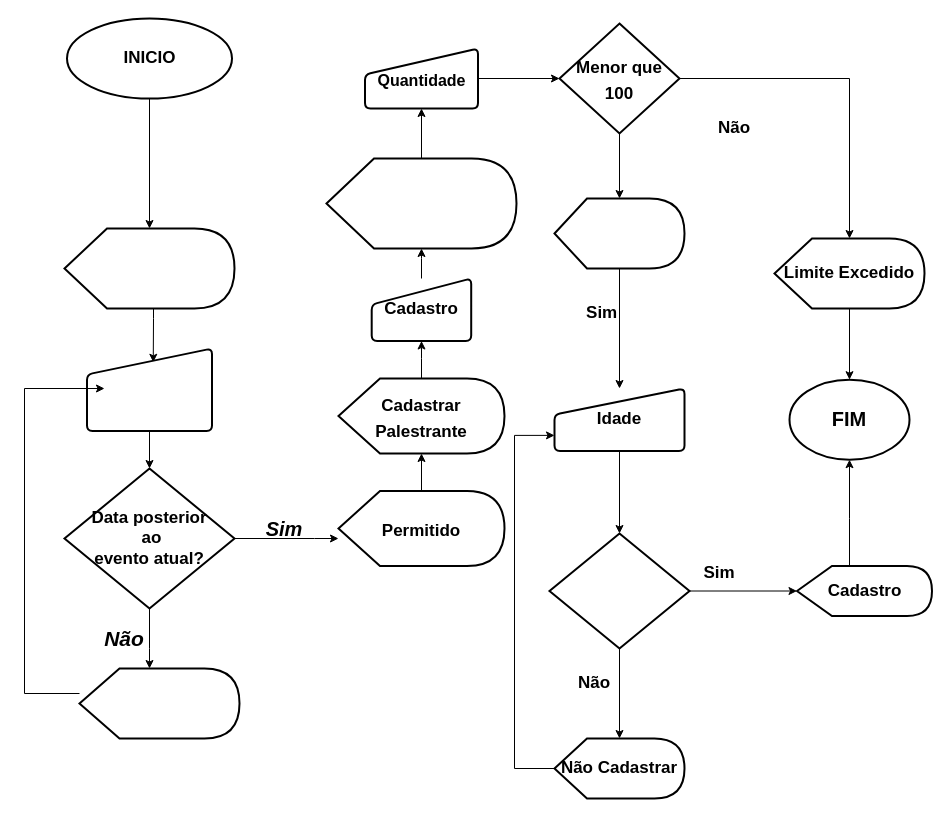
The diagram is 950 pixels wide and 816 high, and some of its shapes have lost their labels. The centre of each missing label's shape, as x and y in pixels:
Cadastro Não permitido por data inválida: point 159,703
Data: point 149,389
Informar data do evento: point 149,268
Informar quantidade de participantes: point 421,203
Informe a Idade: point 619,233
Maior de 18 Anos?: point 619,590
